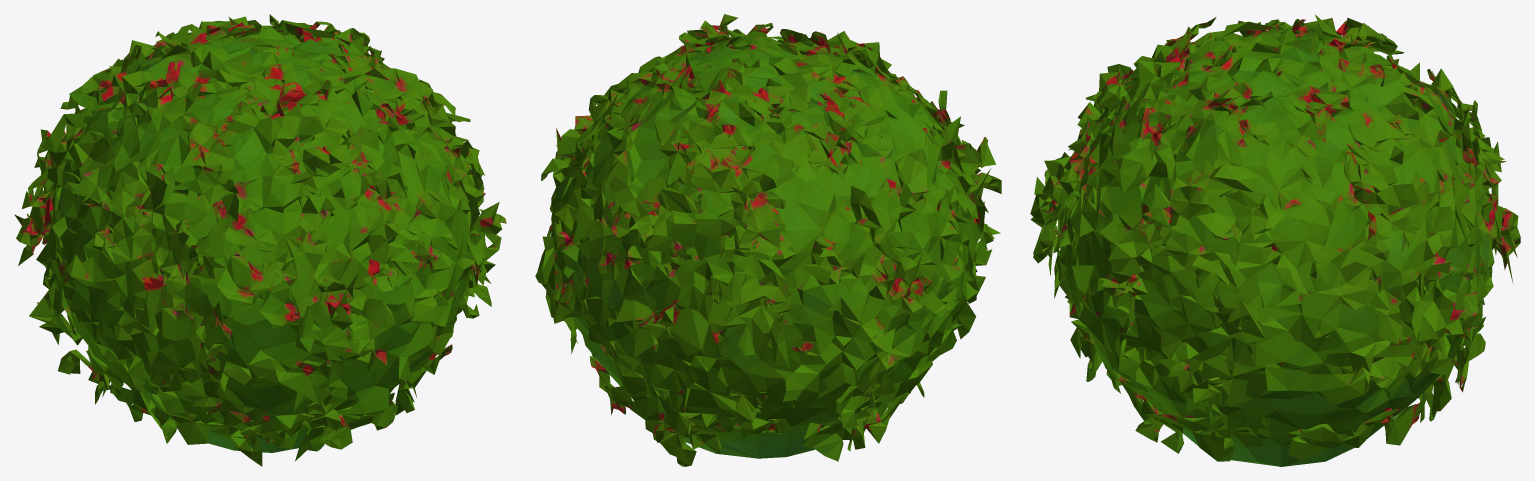
Rendered from bush.glb.
The picture shows the model from 3 angles, left to right: view 1: azimuth 30°, elevation 25°; view 2: azimuth 150°, elevation 25°; view 3: azimuth 270°, elevation 25°; orthographic projection. The views are drawn at different scales.
Parts seen in each view (by area): view 1: textured_mesh.obj; view 2: textured_mesh.obj; view 3: textured_mesh.obj.
Boxes of the visible parts, box(x1,y1,x2,y2) form: textured_mesh.obj: box(14, 14, 506, 466); textured_mesh.obj: box(535, 14, 1001, 466); textured_mesh.obj: box(1030, 14, 1520, 466).
Size of the model in its own units: 1.96 by 1.71 by 1.99.
1 material, 1 textured.
